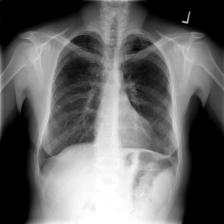normal: (33, 28, 184, 187)
